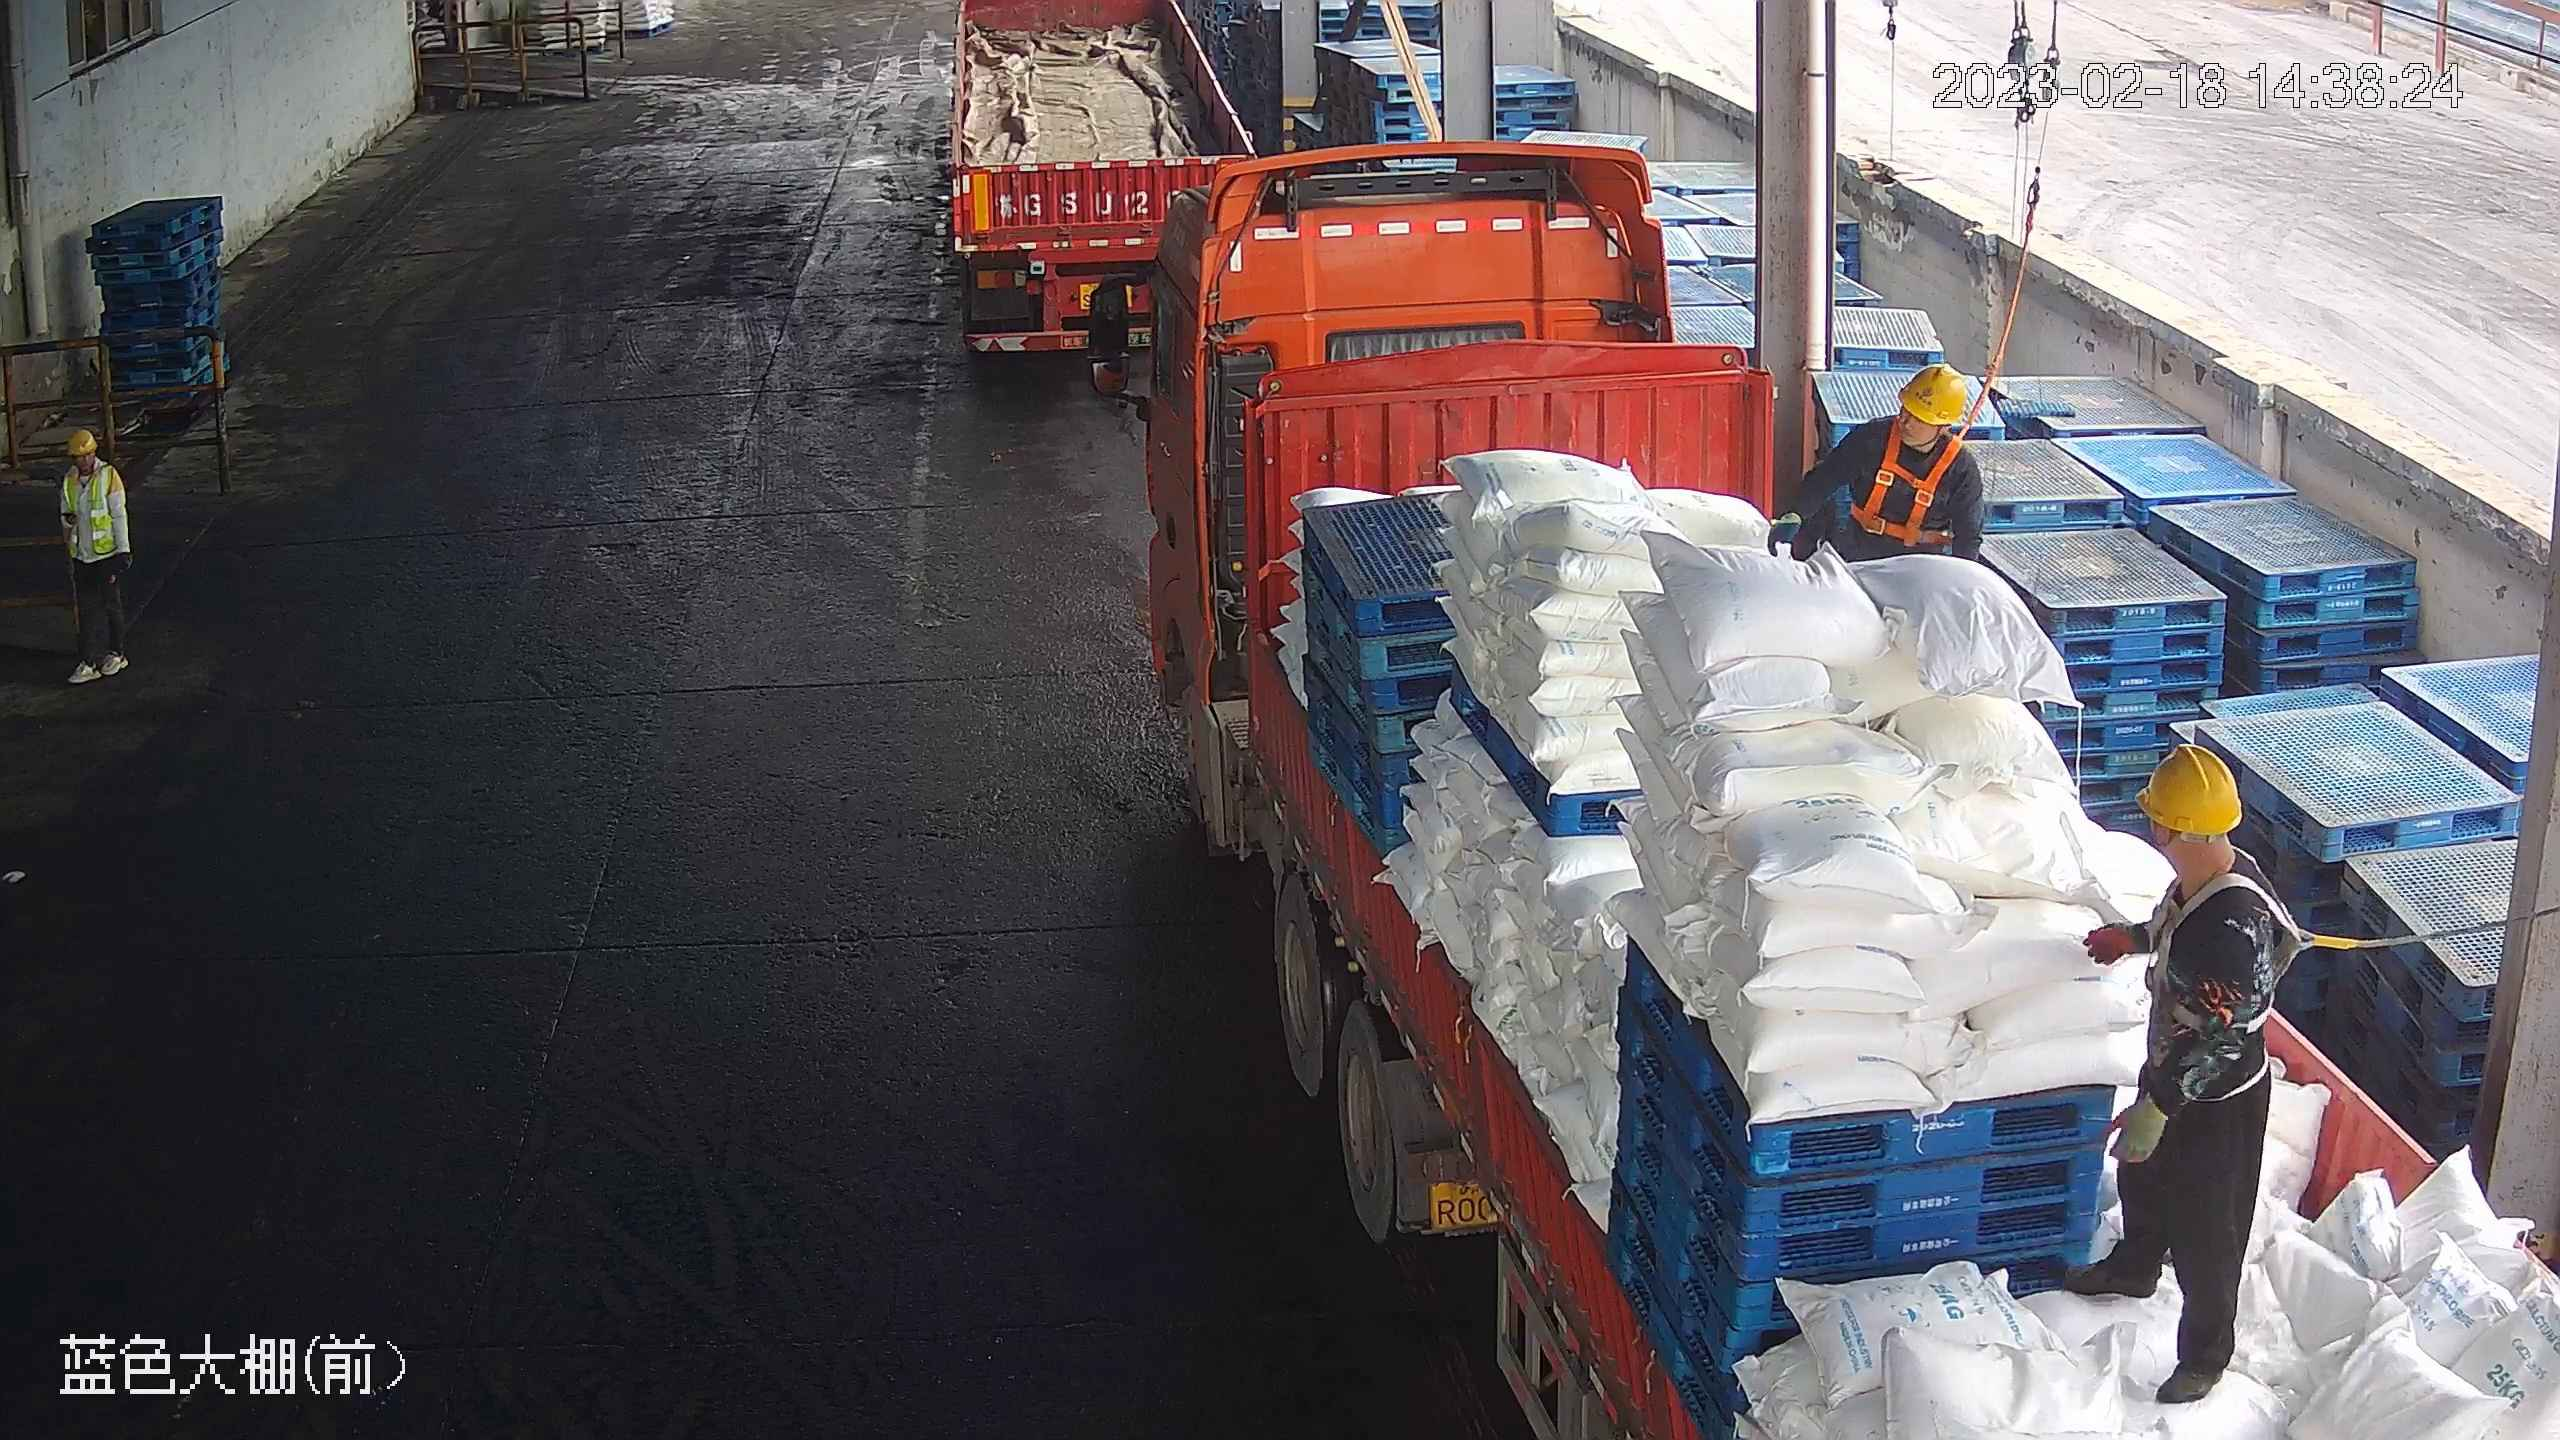belt: (2151, 861, 2323, 1037), (1852, 419, 1965, 546)
head: (2130, 743, 2289, 966), (1835, 360, 1988, 489), (59, 425, 126, 505)
helmet: (2133, 743, 2245, 834), (1895, 360, 1971, 431), (67, 425, 102, 456)
people: (2066, 744, 2288, 1409), (48, 419, 143, 693)
truck: (1088, 154, 2546, 1437), (943, 6, 1262, 367)
